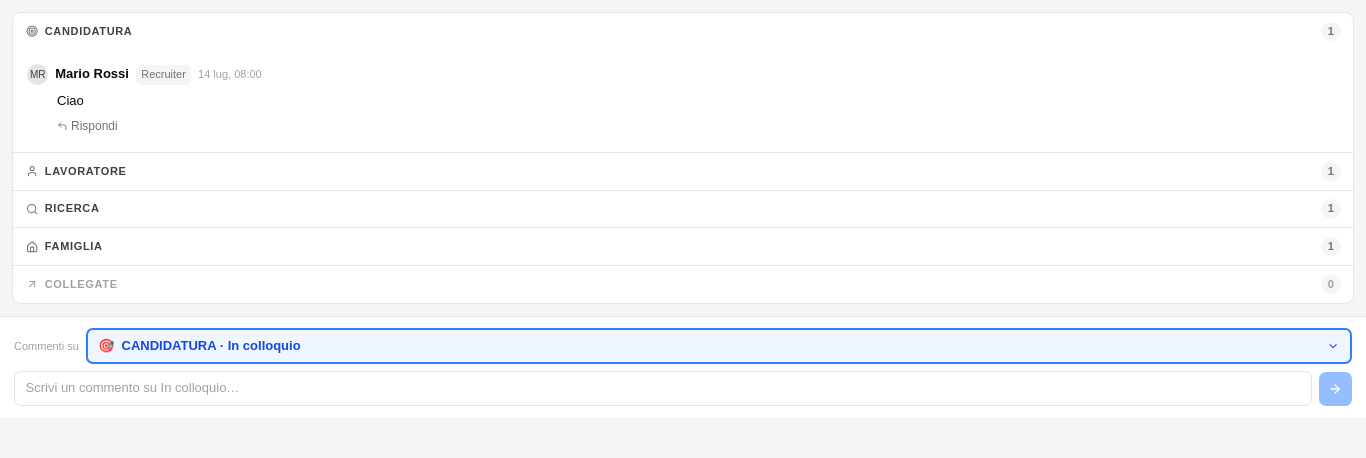
Test: Comment chip-section sync › keeps chip and section aligned when selecting an ancestor from the dropdown
The width and height of the screenshot is (1366, 458).
Click the button with test id "comments-target-chip" at (169, 345), box [86,328,1352,364]
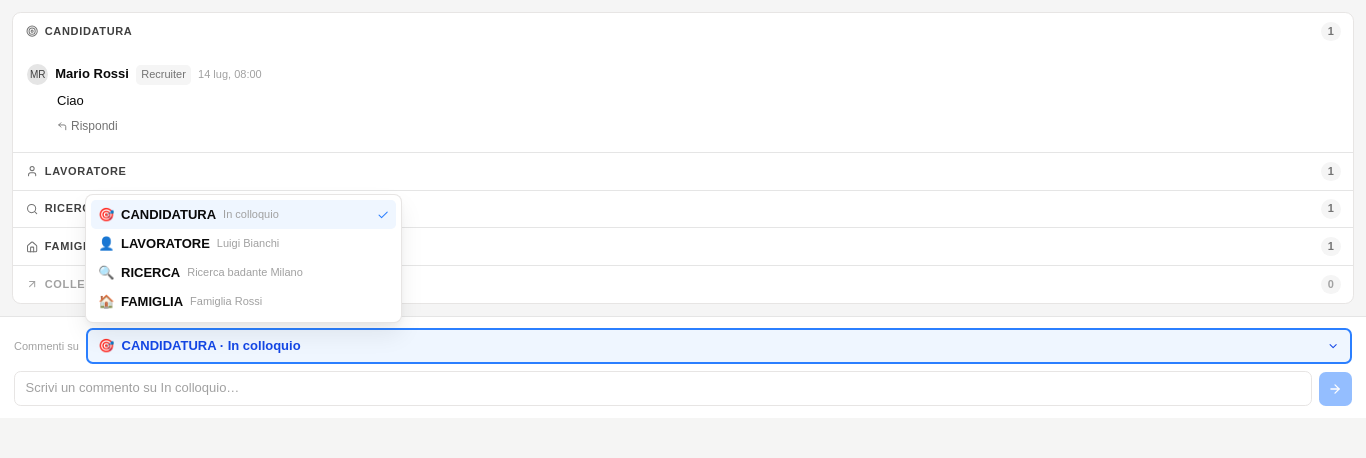
Click the menu item with test id "comments-target-option-famiglia" at (180, 301), box [98,294,262,309]
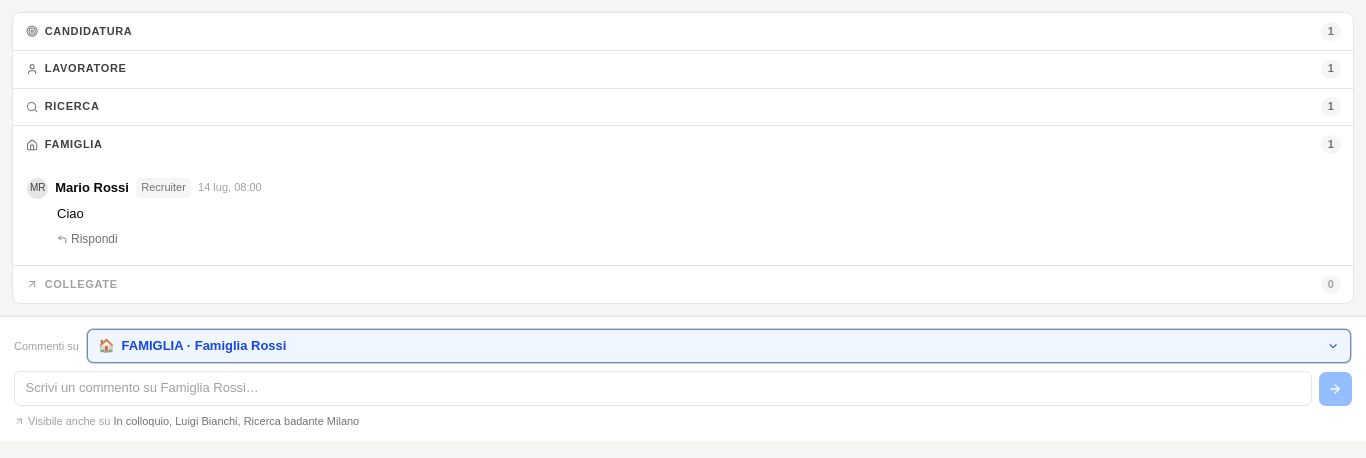
expect the button with test id "comments-target-chip" shows "FAMIGLIA · Famiglia Rossi": met, box [86,328,1352,364]
